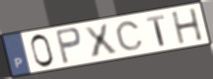0: (29, 33, 56, 68)
C: (114, 20, 145, 52)
H: (170, 7, 205, 46)
P: (54, 26, 84, 66)
T: (144, 14, 166, 48)
X: (81, 22, 120, 59)
